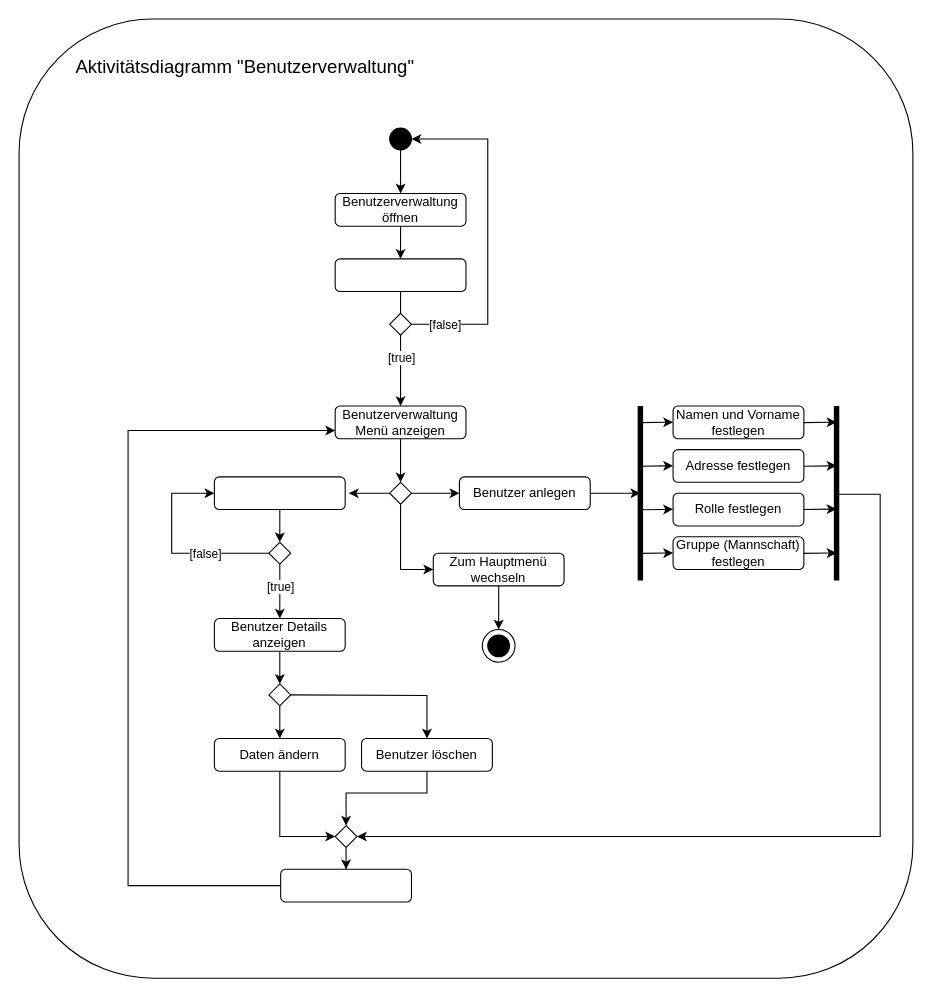
This 932x997 diagram has some shape labels left out. Each missing label, with the centre of its shape:
Benutzer suchen: [279,493]
Berechtigung prüfen: [400,275]
Speichern: [345,885]
